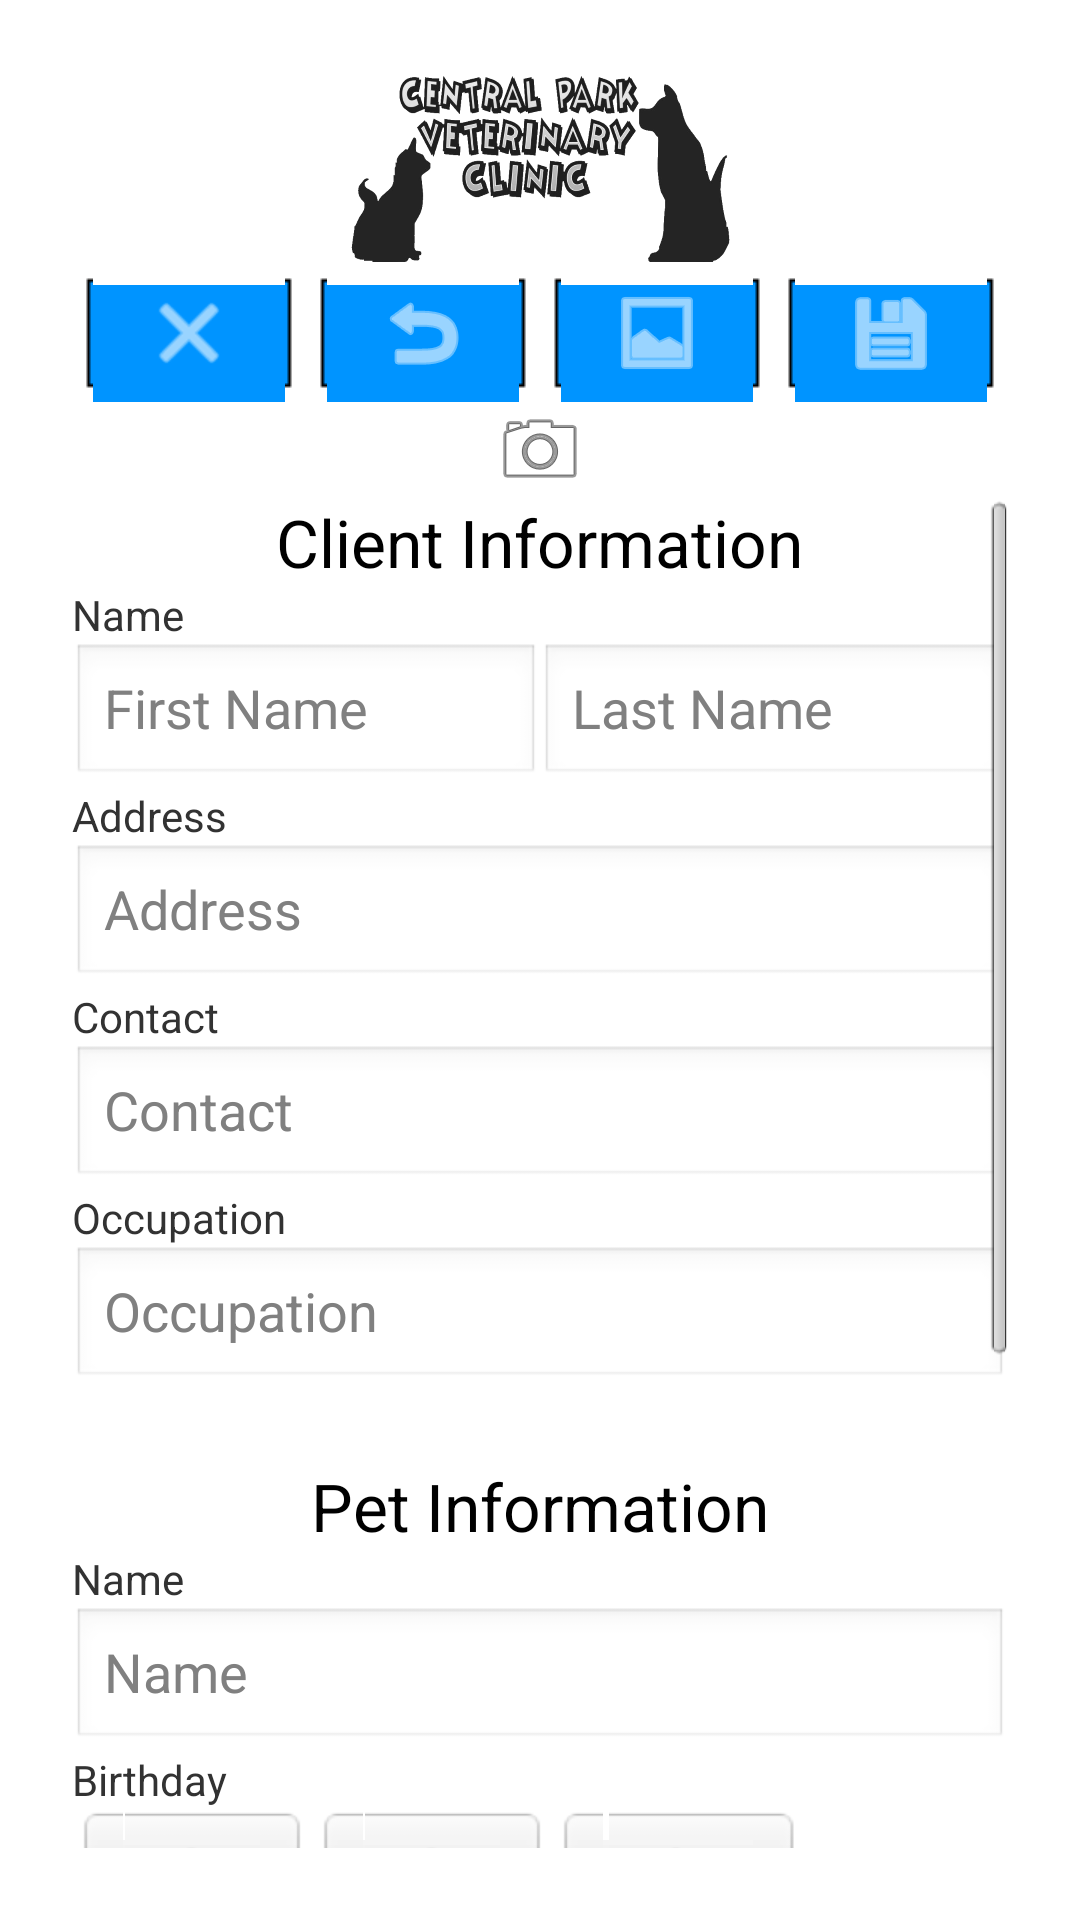

Icon bounding boxes for this 1080px x 1920px phone screenshot, format (x1, y1, x2, y2):
camera: (503, 419, 577, 478)
close clear cancel: (86, 278, 292, 402)
gallery: (554, 278, 760, 402)
Reset: (320, 278, 526, 402)
save: (788, 278, 994, 402)
